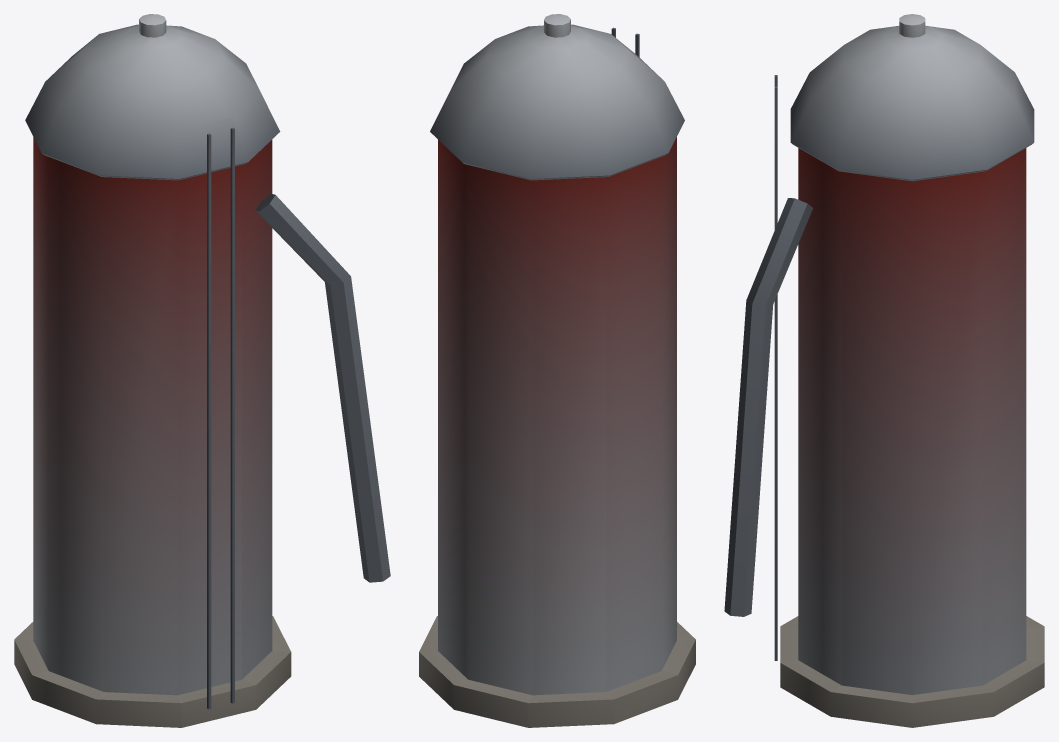
Rendered from prop.silo.lod1.glb.
3 renders of one model, left to right at view 1: azimuth 30°, elevation 25°; view 2: azimuth 150°, elevation 25°; view 3: azimuth 270°, elevation 25°, orthographic.
Parts seen in each view (by area): view 1: silo; view 2: silo; view 3: silo.
Boxes of the visible parts, left/top/right/bottom form: silo: left=14, top=14, right=390, bottom=727; silo: left=419, top=14, right=695, bottom=727; silo: left=724, top=14, right=1044, bottom=727.
Bounding box in the file's own units: 5.67 × 13.2 × 5.87.
